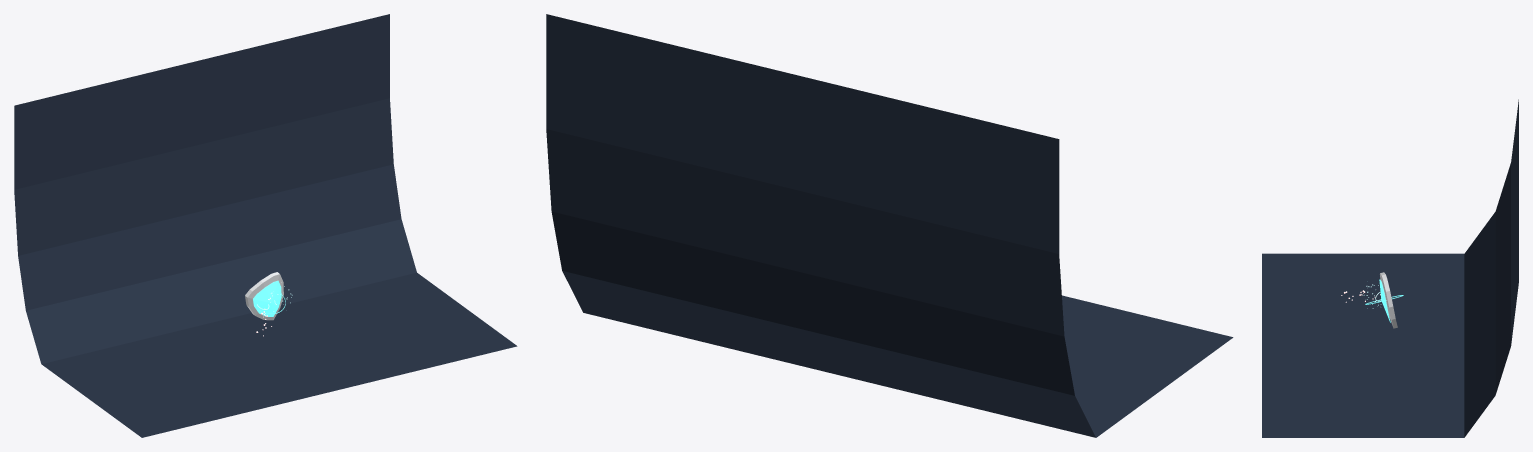
Rendered from cyber_security_shield_deliverability.glb.
3 views of the same model, side by side, from view 1: azimuth 30°, elevation 25°; view 2: azimuth 150°, elevation 25°; view 3: azimuth 270°, elevation 25° (orthographic). The views are drawn at different scales.
Parts seen in each view (by area): view 1: Studio_Cyclorama, Forcefield_Hex_Wireframe, Shield_Outer_Chrome_Rim; view 2: Studio_Cyclorama; view 3: Studio_Cyclorama, Shield_Outer_Chrome_Rim.
Boxes of the visible parts, x1,y1,x2,y2 form: Studio_Cyclorama: (14, 14, 517, 437); Forcefield_Hex_Wireframe: (253, 281, 281, 316); Shield_Outer_Chrome_Rim: (245, 272, 283, 320); Studio_Cyclorama: (546, 14, 1233, 437); Studio_Cyclorama: (1262, 99, 1518, 437); Shield_Outer_Chrome_Rim: (1380, 272, 1397, 328).
Bounding box in the file's own units: 28 × 17 × 16.5.
